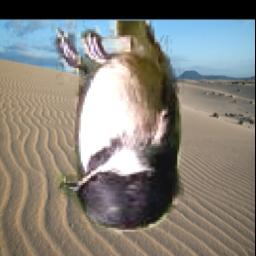Swallow: (51, 20, 184, 237)
